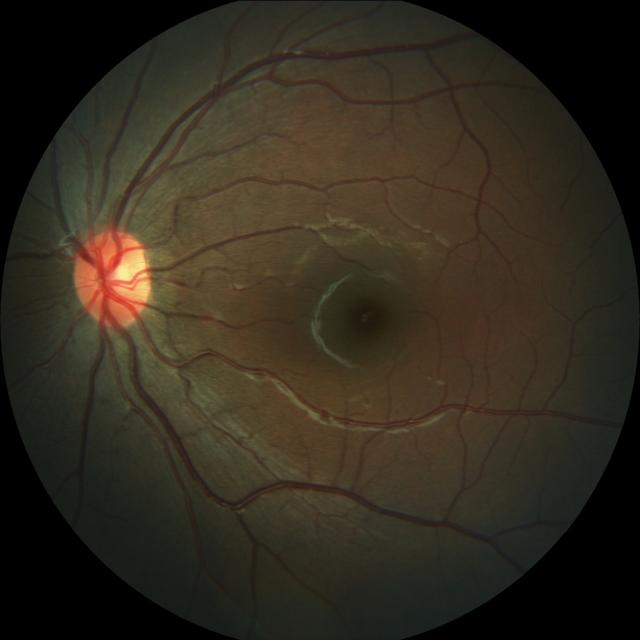OC: (93, 258, 134, 301)
OD: (72, 228, 149, 325)
